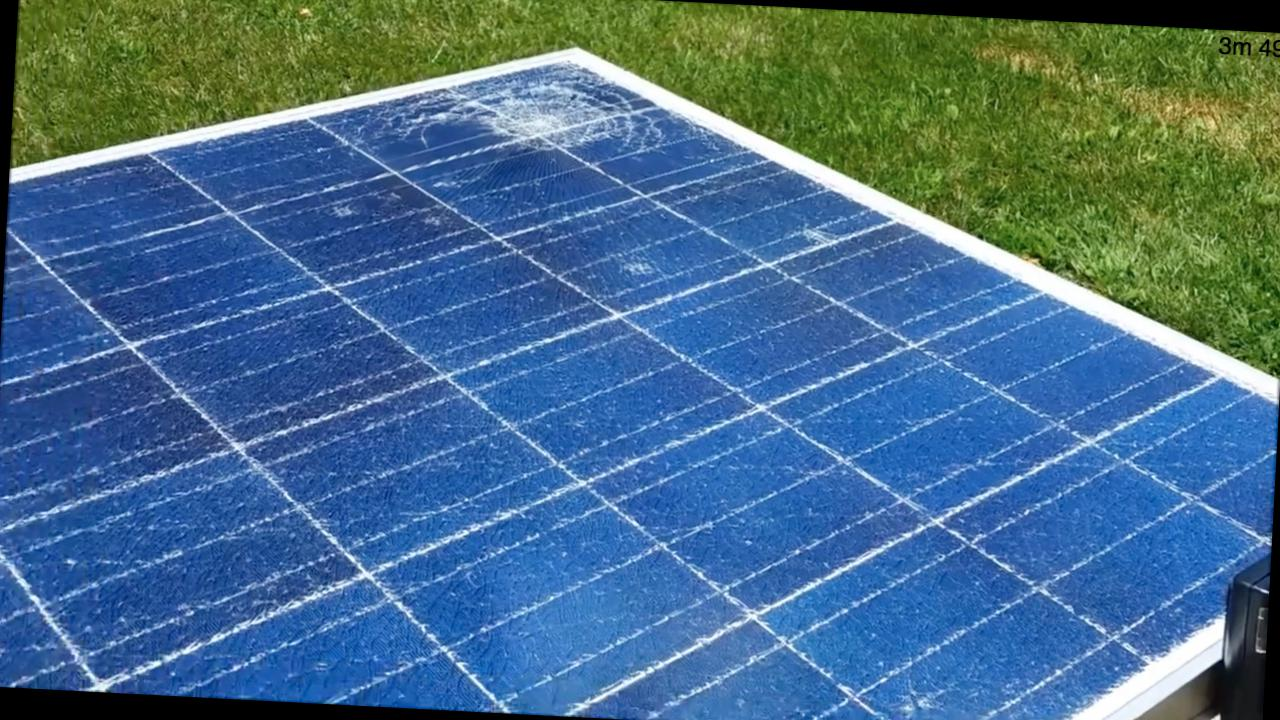Crack: (438, 56, 644, 188), (880, 663, 972, 719), (776, 205, 862, 263), (607, 244, 678, 296)
